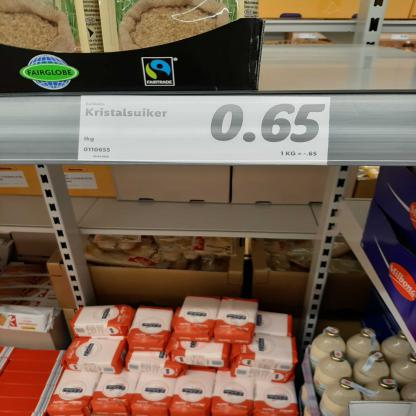prtg: (79, 96, 332, 166)
